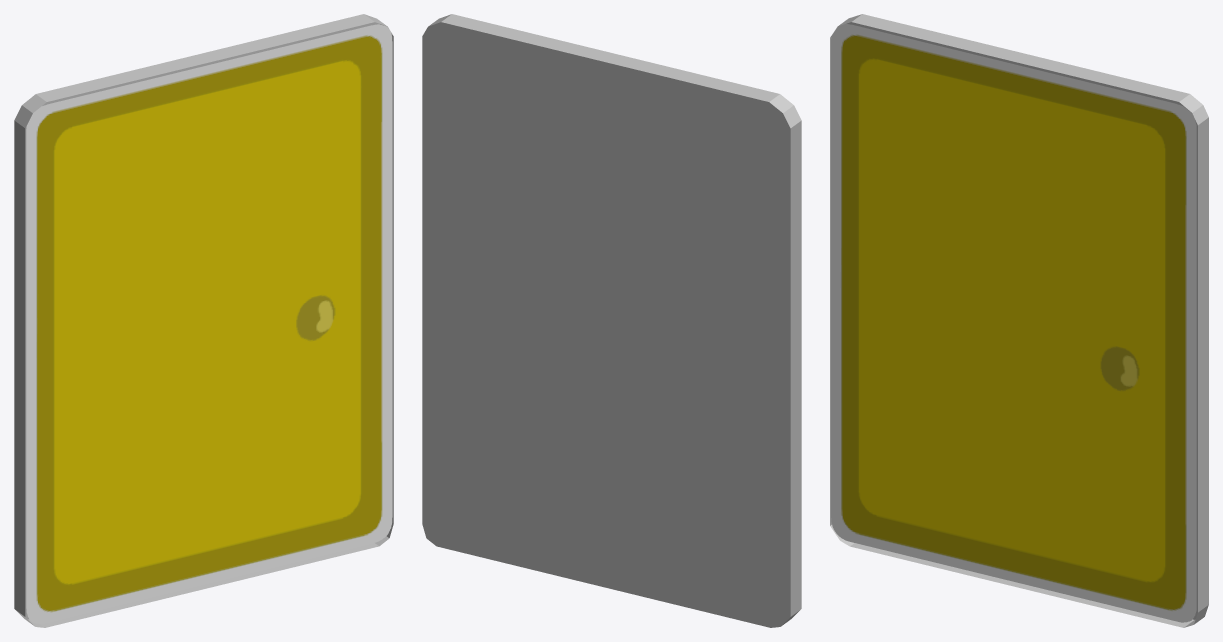
Rendered from GreenDoor.fbx.
3 views of the same model, side by side, from view 1: azimuth 30°, elevation 25°; view 2: azimuth 150°, elevation 25°; view 3: azimuth 330°, elevation 25° (orthographic).
Visible parts, largest first — view 1: Line001; view 2: Line001; view 3: Line001.
Part boxes in pixels (x1=…): Line001: x1=14, y1=14, x2=393, y2=627; Line001: x1=422, y1=14, x2=801, y2=627; Line001: x1=830, y1=14, x2=1208, y2=627.
Bounding box in the file's own units: 46.43 × 63.29 × 2.41.
